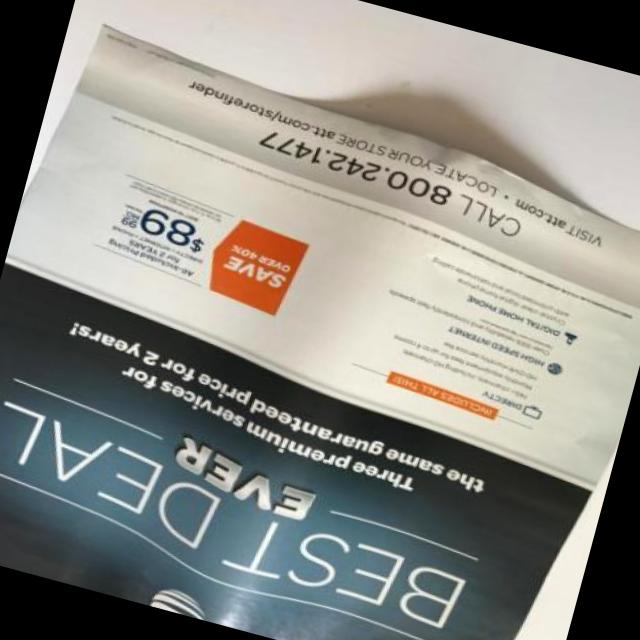cardboard paper: (0, 27, 640, 640)
